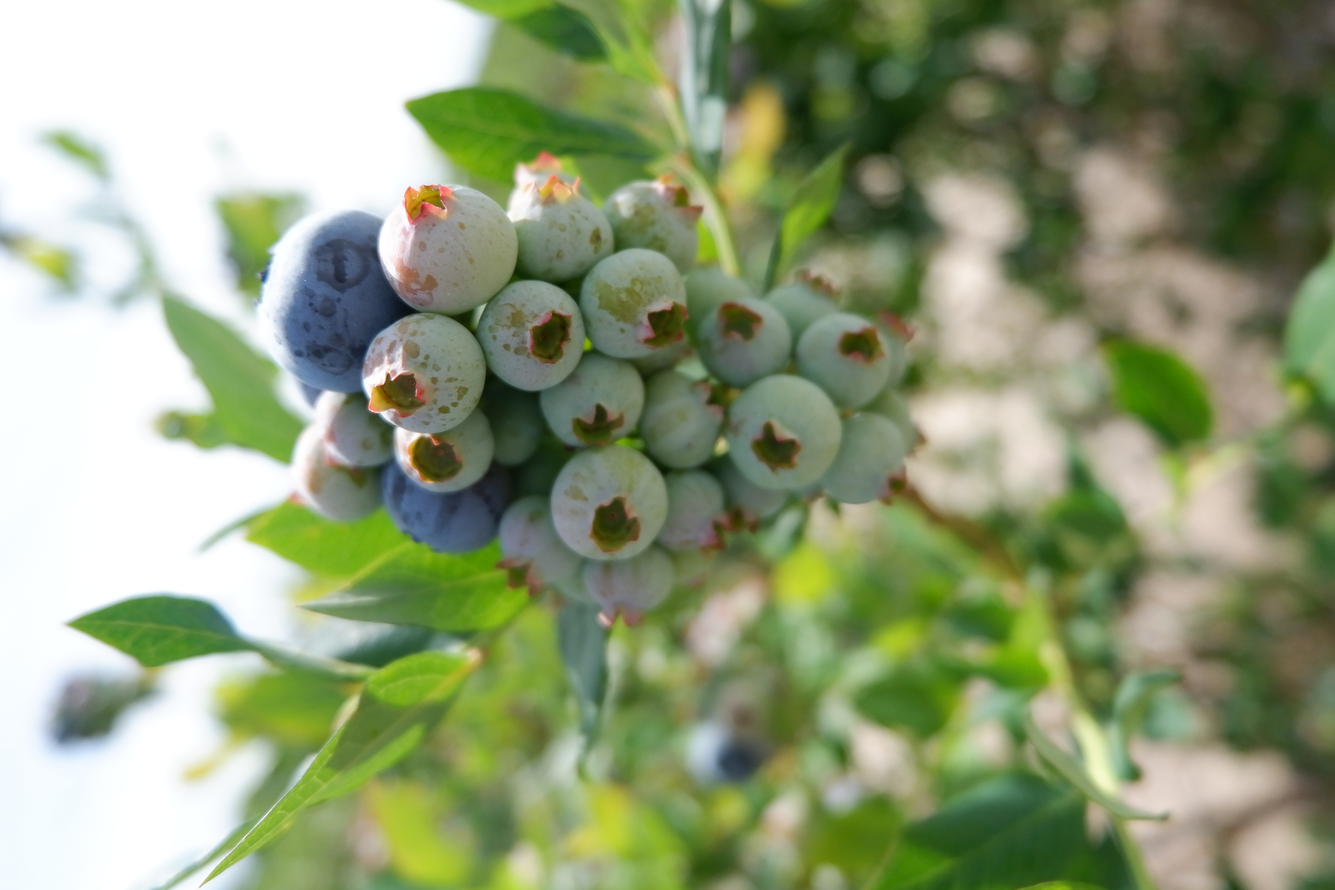Immature: (382, 186, 515, 311), (363, 316, 482, 433), (552, 445, 666, 559), (728, 376, 841, 490), (509, 175, 610, 288), (582, 251, 685, 355), (480, 281, 582, 386), (292, 423, 382, 527), (542, 354, 643, 444), (501, 499, 584, 605), (605, 182, 702, 272), (797, 316, 891, 407), (822, 411, 909, 503), (697, 299, 790, 384), (642, 370, 724, 466), (395, 411, 492, 490), (583, 545, 672, 625), (481, 374, 545, 464), (318, 394, 393, 466), (717, 455, 784, 533), (854, 309, 913, 397), (766, 273, 837, 342), (661, 470, 723, 548), (687, 266, 756, 322), (511, 443, 569, 498), (868, 390, 920, 446)
Mature: (261, 213, 408, 391), (383, 463, 512, 551)
